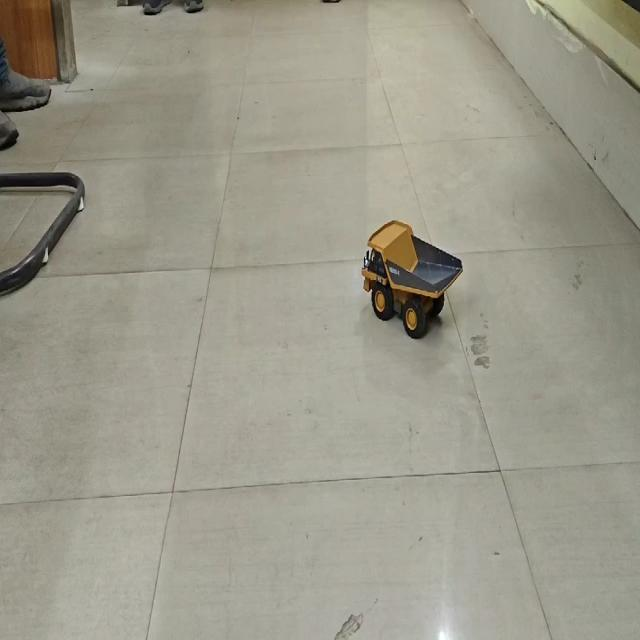dump_truck: (365, 216, 463, 334)
